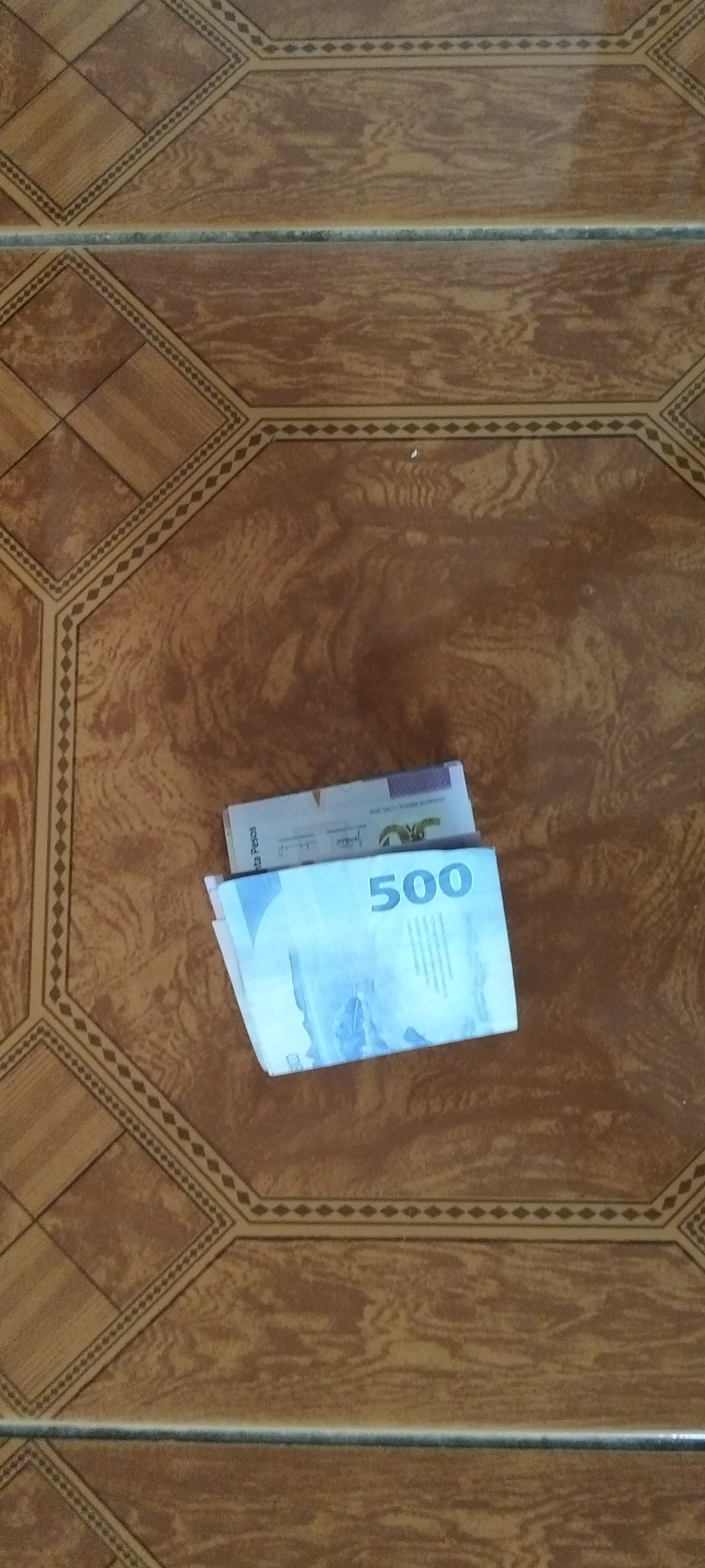billetes: (192, 740, 556, 1098)
